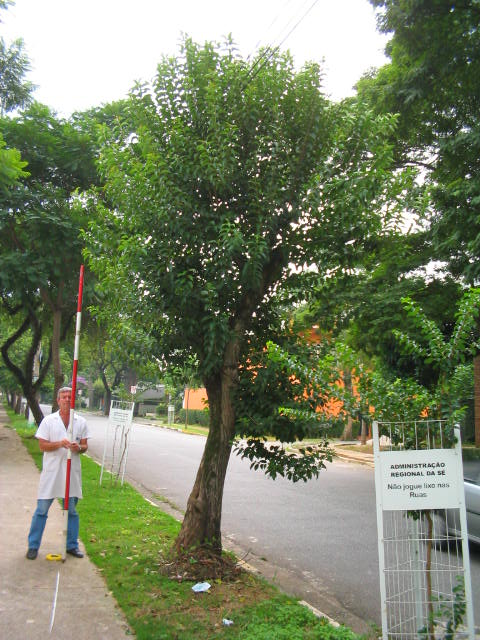crown: (84, 25, 426, 477)
stem: (163, 382, 254, 564)
stick: (50, 264, 91, 560)
tree: (81, 25, 427, 565)
